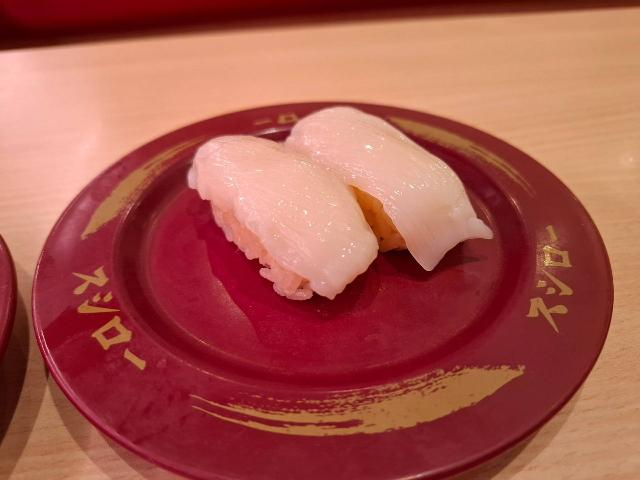janred: (0, 111, 619, 479)
